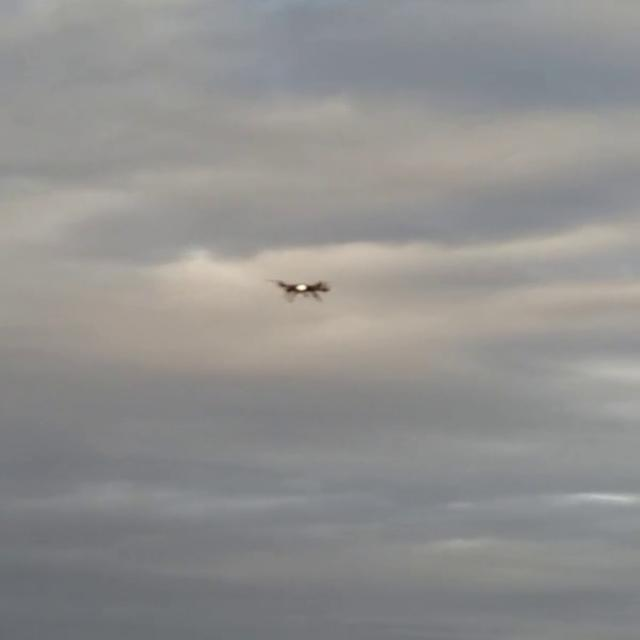drone: (275, 278, 336, 306)
